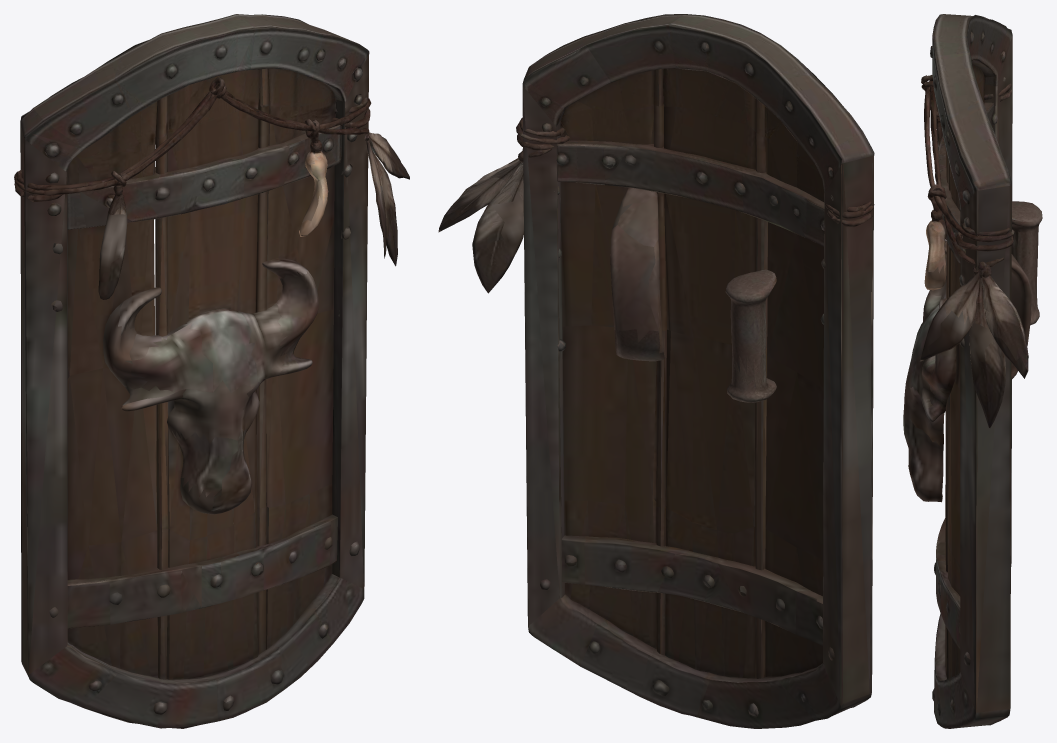
Rendered from muro_arqueiro_minotauro.glb.
The picture shows the model from 3 angles, left to right: view 1: azimuth 30°, elevation 25°; view 2: azimuth 150°, elevation 25°; view 3: azimuth 270°, elevation 25°; orthographic projection. The views are drawn at different scales.
Visible parts, largest first — view 1: mesh_node; view 2: mesh_node; view 3: mesh_node.
Part boxes in pixels (box(x1,y1,x2,y2)): mesh_node: box(14, 14, 409, 728); mesh_node: box(438, 14, 874, 728); mesh_node: box(903, 14, 1042, 728).
Bounding box in the file's own units: 0.627 × 1 × 0.1885.
1 material, 1 textured.
